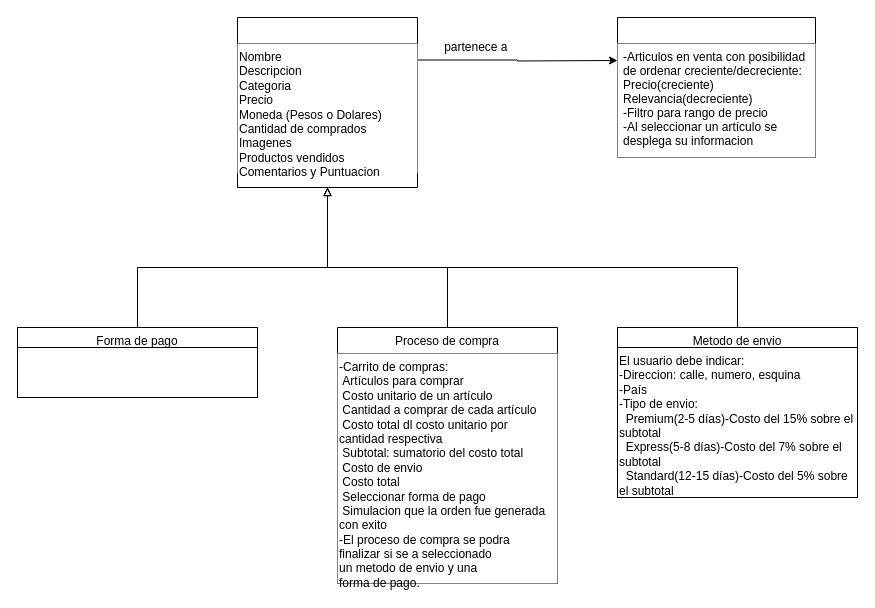
This 875x608 diagram has some shape labels left out. Here are the shapes that lost their labels. From the top down, the box of each, then its label:
(236, 16, 418, 188): Artículo
(616, 16, 816, 158): Listado de Productos
(16, 346, 258, 398): -Tarjeta de credito -Transferencia bancaria
